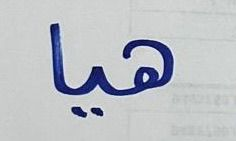heh: (112, 39, 181, 102)
jeem: (39, 19, 66, 105)
yeh: (68, 52, 109, 126)
